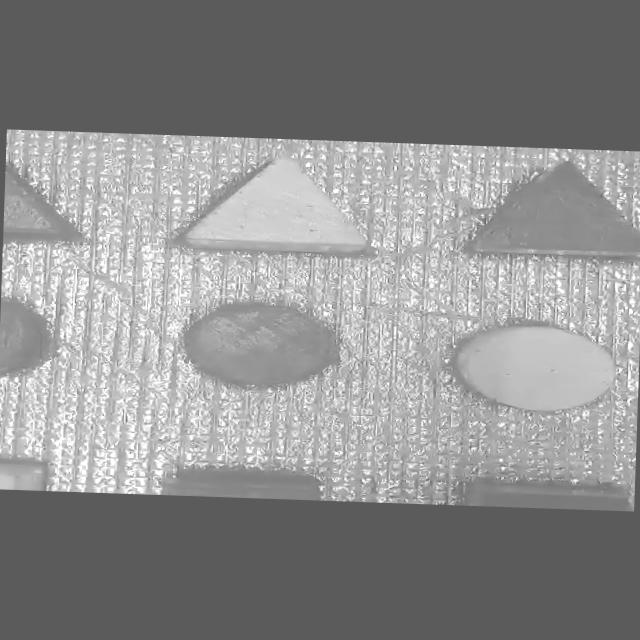btriangle: (457, 154, 640, 265)
rcircle: (175, 280, 362, 396)
ycircle: (452, 306, 620, 418)
ytriangle: (179, 156, 377, 253)
